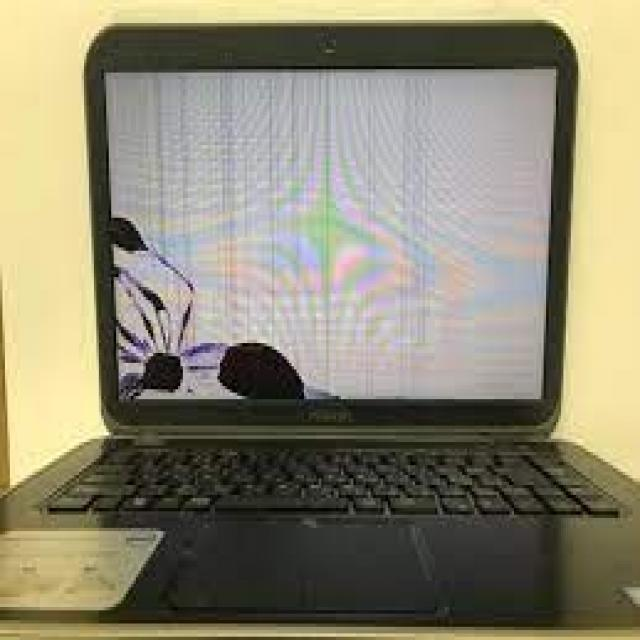Screen cracks: (111, 211, 314, 406)
